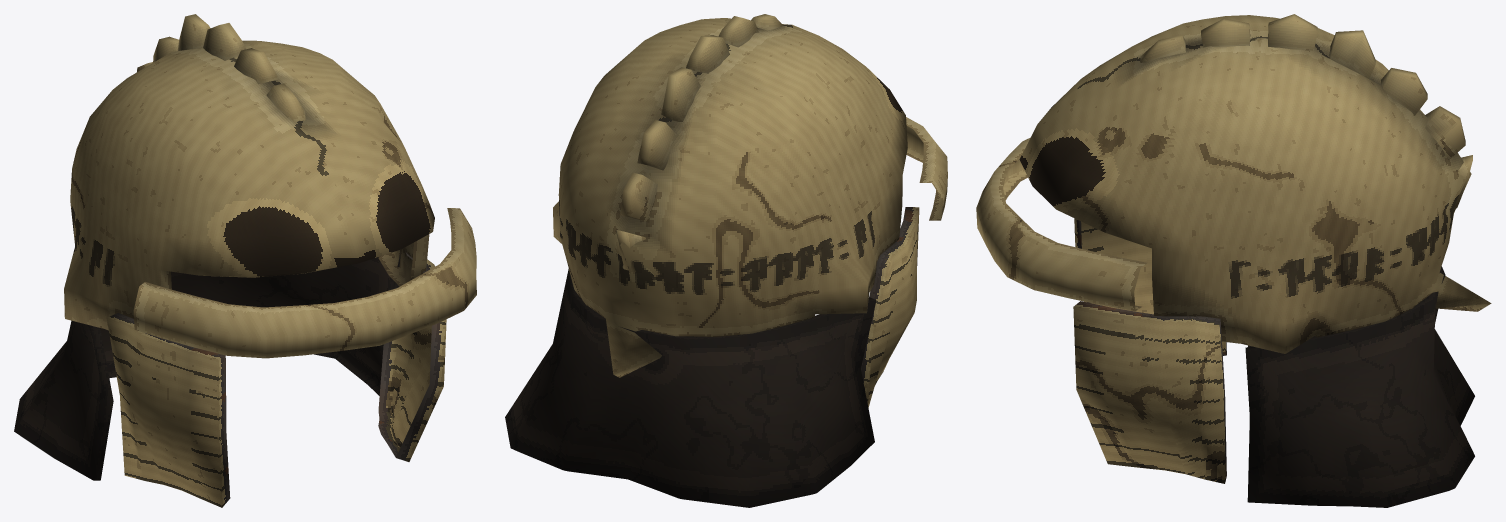
The model's file is casque_os.glb.
The picture shows the model from 3 angles, left to right: view 1: azimuth 30°, elevation 25°; view 2: azimuth 150°, elevation 25°; view 3: azimuth 270°, elevation 25°; orthographic projection. The views are drawn at different scales.
Parts seen in each view (by area): view 1: casque_os_sol; view 2: casque_os_sol; view 3: casque_os_sol.
Part boxes in pixels (x1,y1,x2,y2): casque_os_sol: [14, 14, 476, 507]; casque_os_sol: [505, 14, 947, 507]; casque_os_sol: [976, 14, 1491, 507].
Size of the model in its own units: 0.2149 by 0.2467 by 0.2783.
Materials: 2 (2 with a texture image).
